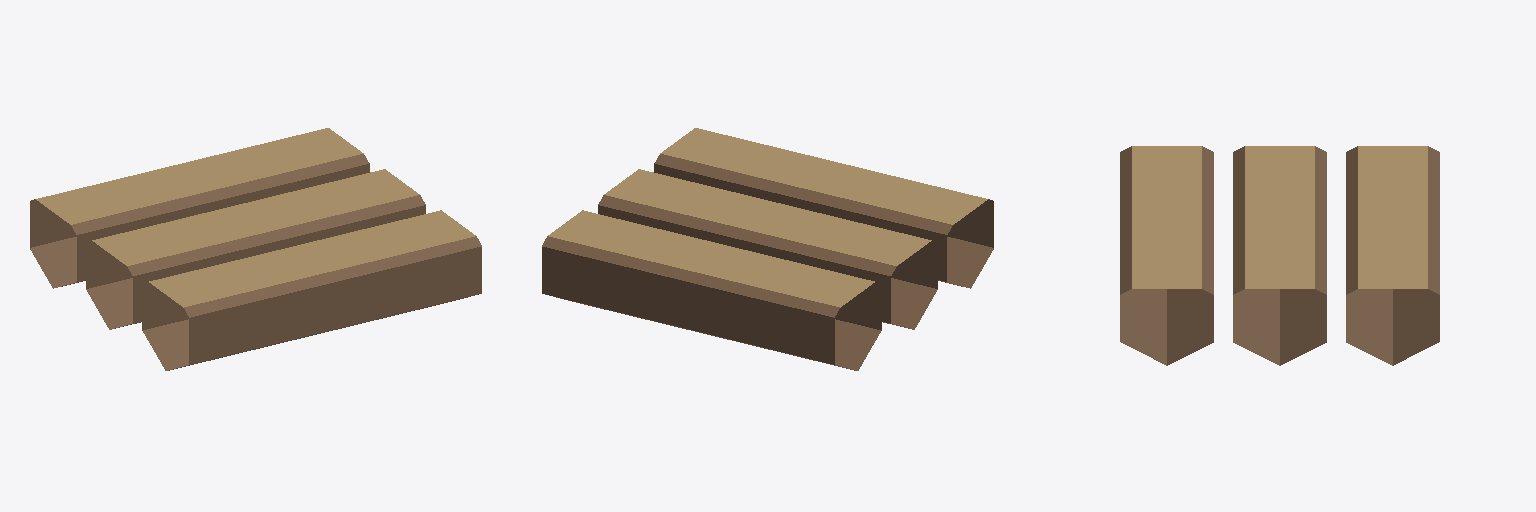
File: Hilly_Prop_Bridge_Log_Middle.obj
3 renders of one model, left to right at view 1: azimuth 30°, elevation 25°; view 2: azimuth 150°, elevation 25°; view 3: azimuth 270°, elevation 25°, orthographic.
Parts seen in each view (by area): view 1: object3, object2, object1; view 2: object2, object3, object1; view 3: object1, object2, object3.
Boxes of the visible parts, x1,y1,x2,y2 form: object3: [142, 210, 481, 370]; object2: [30, 128, 369, 288]; object1: [86, 169, 425, 329]; object2: [542, 210, 881, 370]; object3: [654, 128, 993, 288]; object1: [598, 169, 937, 329]; object1: [1233, 146, 1326, 365]; object2: [1346, 146, 1439, 365]; object3: [1120, 146, 1213, 365].
Size of the model in its own units: 1 by 0.25 by 0.9444.